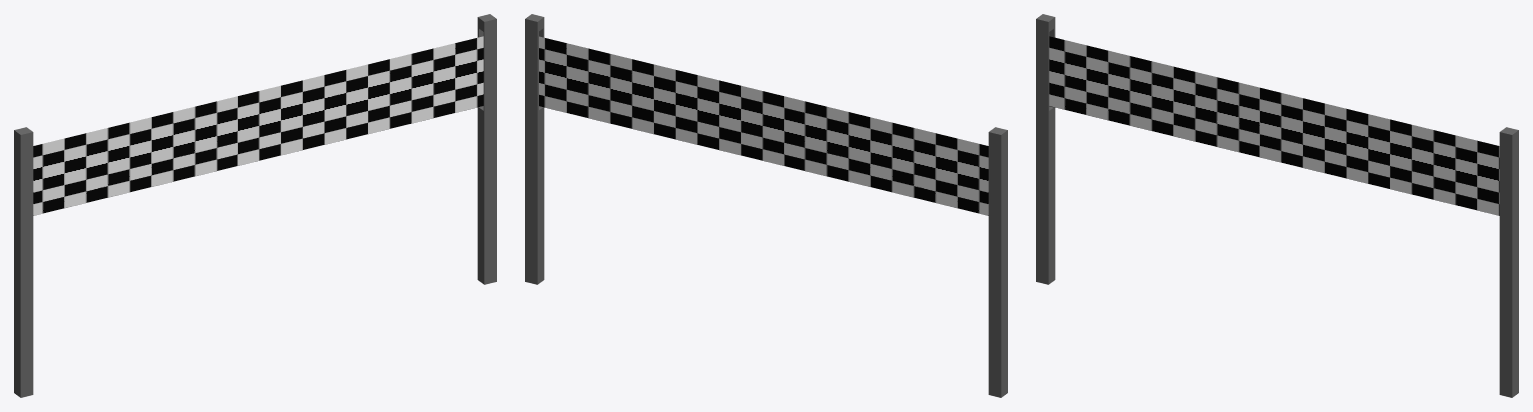
The model's file is Finishvlag.fbx.
3 renders of one model, left to right at view 1: azimuth 30°, elevation 25°; view 2: azimuth 150°, elevation 25°; view 3: azimuth 330°, elevation 25°, orthographic.
Parts seen in each view (by area): view 1: Plane, Cube; view 2: Plane, Cube; view 3: Plane, Cube.
Part boxes in pixels (x1=…): Plane: x1=33, y1=36, x2=483, y2=215; Cube: x1=14, y1=14, x2=496, y2=397; Plane: x1=539, y1=36, x2=988, y2=215; Cube: x1=525, y1=14, x2=1007, y2=397; Plane: x1=1049, y1=36, x2=1499, y2=215; Cube: x1=1036, y1=14, x2=1518, y2=397.
Size of the model in its own units: 2163 by 1141 by 52.71.
